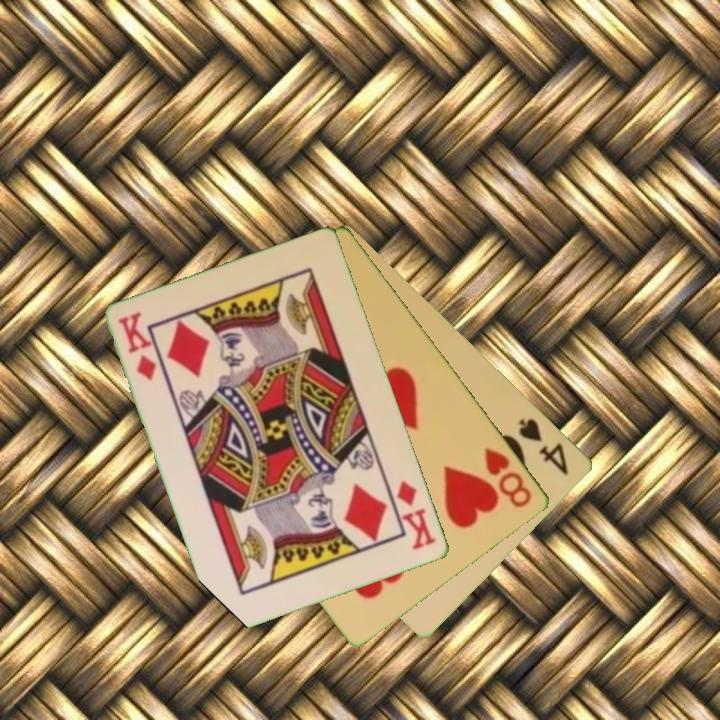4s: (515, 415, 572, 479)
8h: (481, 444, 536, 511)
Kd: (393, 476, 440, 553), (114, 308, 160, 384)
